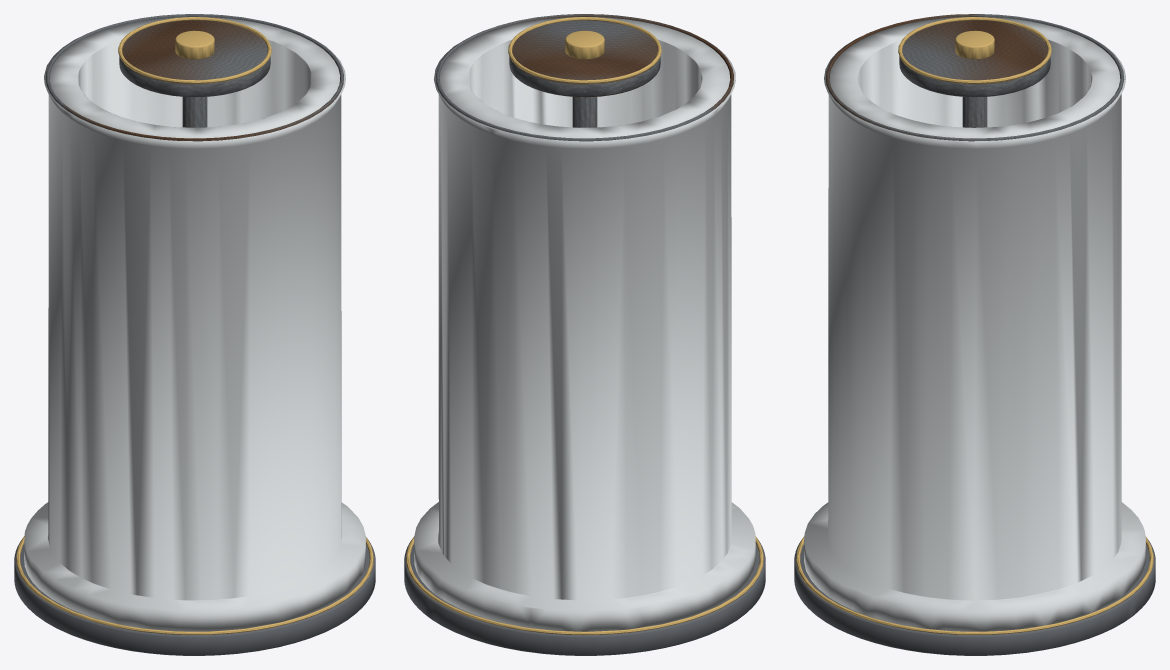
Rendered from charles_apparatus.glb.
The picture shows the model from 3 angles, left to right: view 1: azimuth 30°, elevation 25°; view 2: azimuth 150°, elevation 25°; view 3: azimuth 270°, elevation 25°; orthographic projection.
Parts seen in each view (by area): view 1: Cylinder, GEO_glass_base_ring, GEO_weight_platform, GEO_glass_lip_ring, GEO_glass_base_brass_ring, GEO_weight_platform_rim, GEO_platform_boss, Piston_Rod; view 2: Cylinder, GEO_glass_base_ring, GEO_weight_platform, GEO_glass_lip_ring, GEO_glass_base_brass_ring, GEO_weight_platform_rim, GEO_platform_boss, Piston_Rod; view 3: Cylinder, GEO_glass_base_ring, GEO_weight_platform, GEO_glass_lip_ring, GEO_glass_base_brass_ring, GEO_weight_platform_rim, GEO_platform_boss, Piston_Rod.
Boxes of the visible parts, <box> form: Cylinder: <box>24,17,366,631</box>; GEO_glass_base_ring: <box>14,537,375,655</box>; GEO_weight_platform: <box>119,20,270,97</box>; GEO_glass_lip_ring: <box>45,14,343,141</box>; GEO_glass_base_brass_ring: <box>16,536,373,635</box>; GEO_weight_platform_rim: <box>118,17,271,83</box>; GEO_platform_boss: <box>175,30,214,59</box>; Piston_Rod: <box>182,97,207,127</box>; Cylinder: <box>414,17,755,631</box>; GEO_glass_base_ring: <box>404,538,765,655</box>; GEO_weight_platform: <box>509,20,660,97</box>; GEO_glass_lip_ring: <box>436,14,733,141</box>; GEO_glass_base_brass_ring: <box>406,536,763,635</box>; GEO_weight_platform_rim: <box>508,17,661,83</box>; GEO_platform_boss: <box>565,30,604,59</box>; Piston_Rod: <box>572,96,597,127</box>; Cylinder: <box>804,17,1145,631</box>; GEO_glass_base_ring: <box>794,537,1155,655</box>; GEO_weight_platform: <box>899,20,1050,97</box>; GEO_glass_lip_ring: <box>826,14,1124,141</box>; GEO_glass_base_brass_ring: <box>796,536,1153,634</box>; GEO_weight_platform_rim: <box>898,17,1051,83</box>; GEO_platform_boss: <box>955,30,994,59</box>; Piston_Rod: <box>962,97,987,127</box>.
Size of the model in its own units: 2.2 by 3.64 by 2.2.
6 materials, 1 textured.
